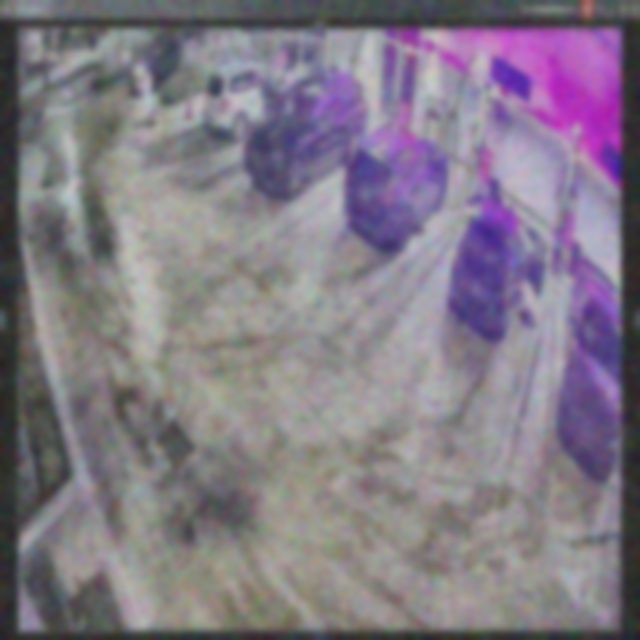Car: (246, 64, 364, 190), (445, 195, 545, 342), (343, 108, 447, 248)
